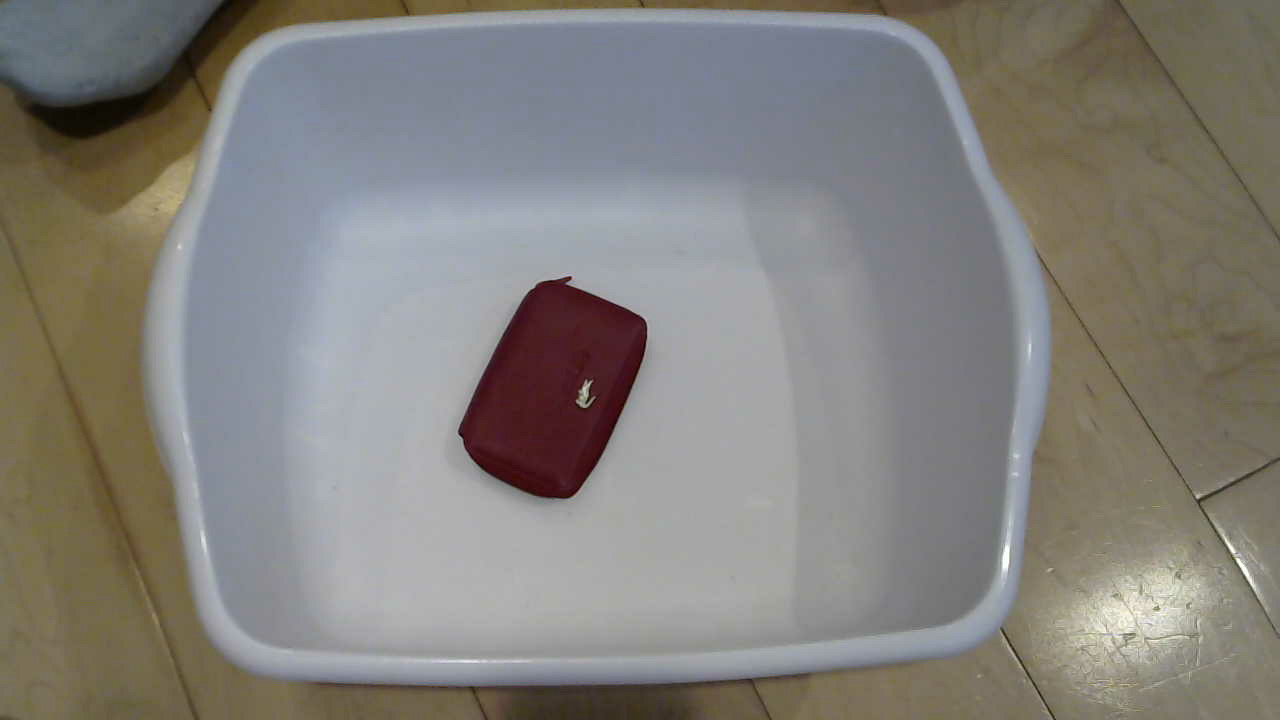wallet: (459, 282, 695, 522)
